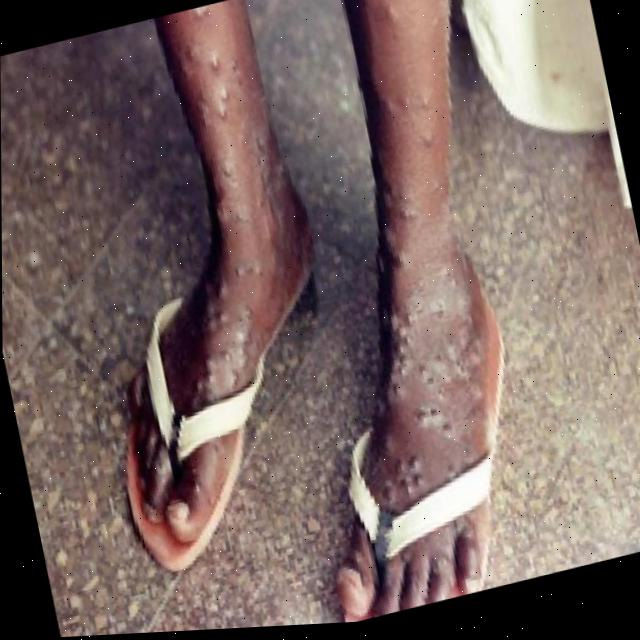Eczema: (119, 14, 319, 373), (331, 133, 508, 488)
